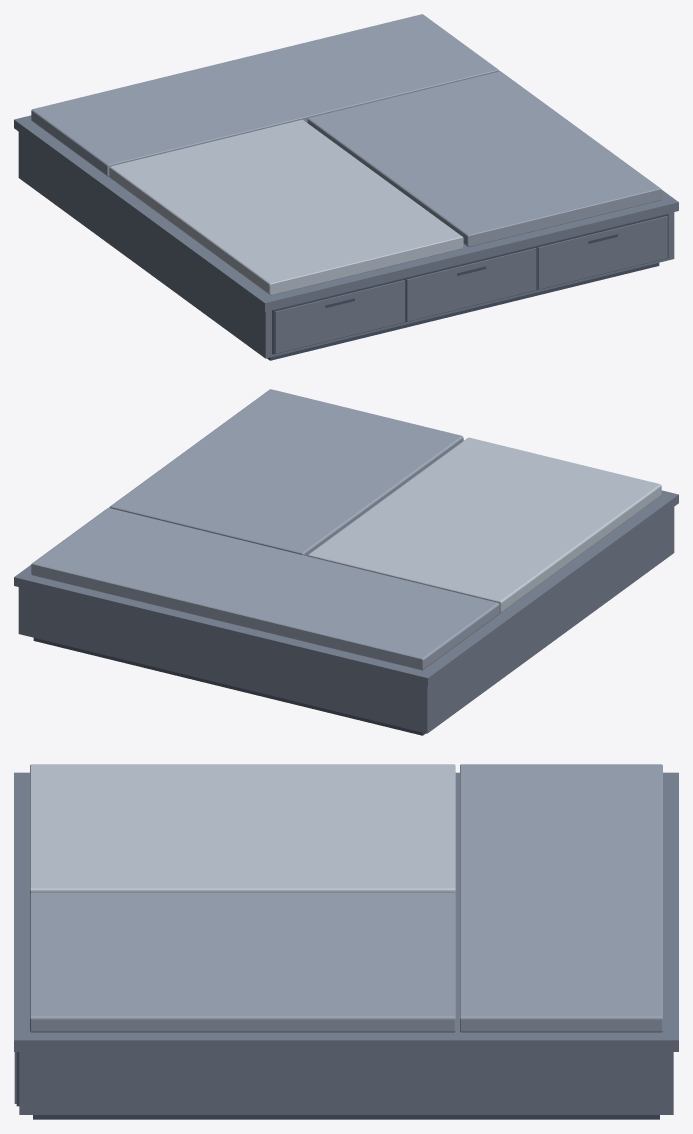
Rendered from 榻榻米-lite.glb.
The picture shows the model from 3 angles, top to bottom: view 1: azimuth 30°, elevation 25°; view 2: azimuth 150°, elevation 25°; view 3: azimuth 270°, elevation 25°; orthographic projection. The views are drawn at different scales.
Parts seen in each view (by area): view 1: soft, light, body, accent, dark; view 2: soft, light, body, accent, dark; view 3: soft, light, body, accent, dark.
Boxes of the visible parts, left/top/right/bottom form: soft: left=31, top=14, right=661, bottom=246; light: left=109, top=119, right=463, bottom=295; body: left=18, top=132, right=674, bottom=358; accent: left=14, top=115, right=678, bottom=311; dark: left=267, top=213, right=668, bottom=360; soft: left=31, top=389, right=499, bottom=670; light: left=307, top=437, right=661, bottom=613; body: left=18, top=507, right=674, bottom=733; accent: left=14, top=490, right=678, bottom=686; dark: left=33, top=638, right=425, bottom=735; soft: left=30, top=764, right=662, bottom=1032; light: left=30, top=764, right=455, bottom=893; body: left=14, top=1052, right=673, bottom=1114; accent: left=14, top=772, right=678, bottom=1051; dark: left=16, top=1052, right=659, bottom=1119.
Size of the model in its own units: 2 by 0.36 by 2.1.
